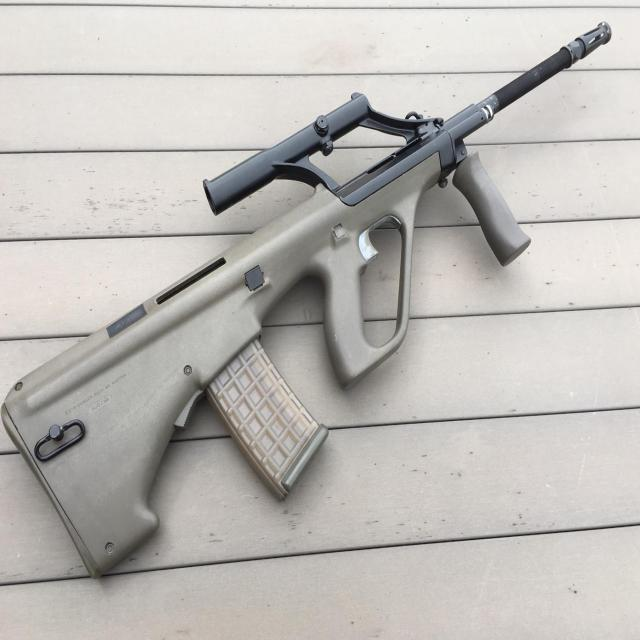firearm: (0, 19, 614, 581)
